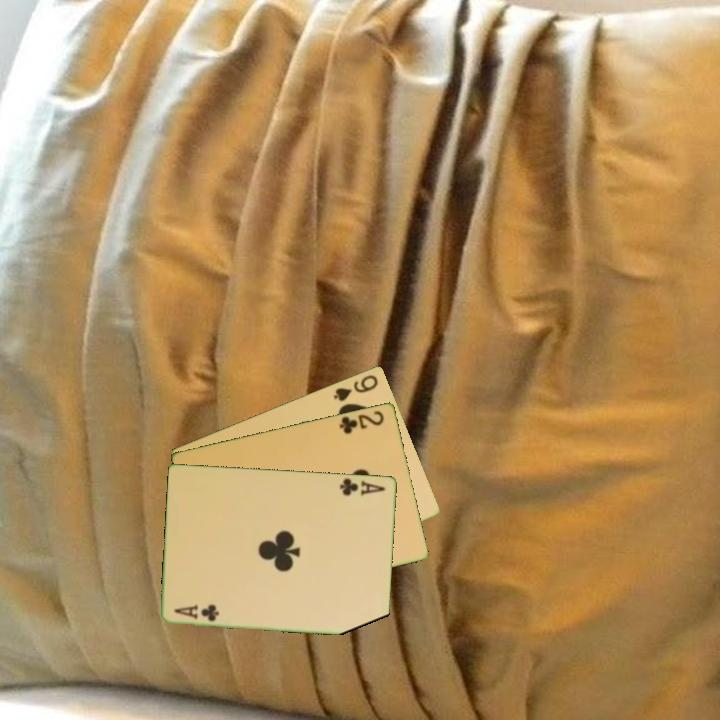2c: (336, 407, 387, 437)
9s: (330, 371, 381, 404)
Ac: (336, 474, 388, 498), (170, 601, 222, 624)
